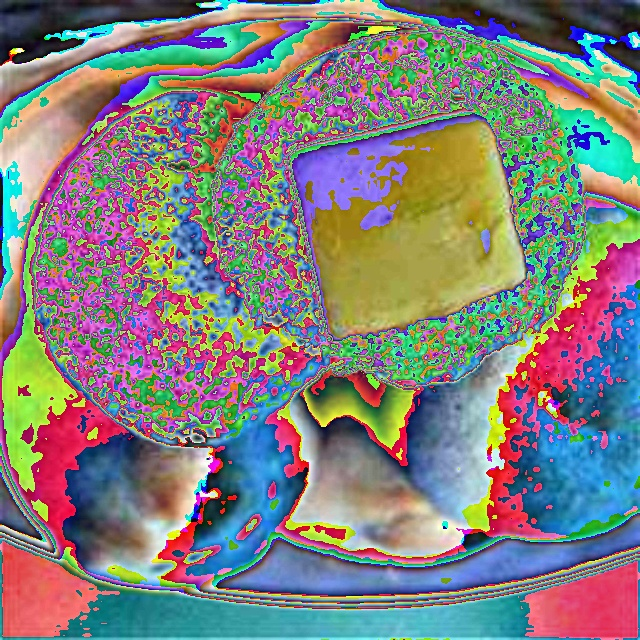background: (0, 28, 640, 599)
